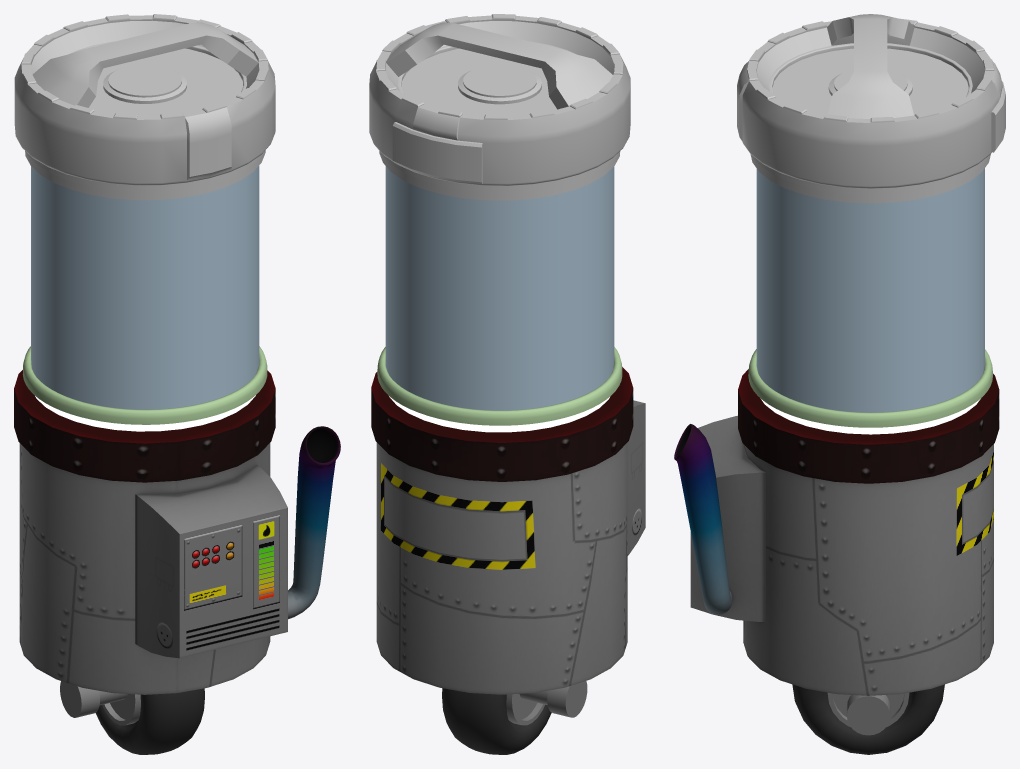
File: enemigoNivel2.fbx
3 views of the same model, side by side, from view 1: azimuth 30°, elevation 25°; view 2: azimuth 150°, elevation 25°; view 3: azimuth 270°, elevation 25° (orthographic).
Parts seen in each view (by area): view 1: Cylinder.017; view 2: Cylinder.017; view 3: Cylinder.017.
Part boxes in pixels (bbox=[...]): Cylinder.017: bbox=[14, 14, 340, 754]; Cylinder.017: bbox=[369, 14, 645, 754]; Cylinder.017: bbox=[674, 14, 1005, 754].
Bounding box in the file's own units: 770 × 2276 × 972.
